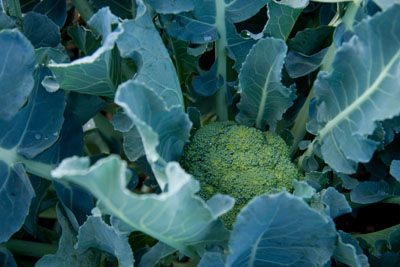broccoli: (187, 118, 300, 196)
